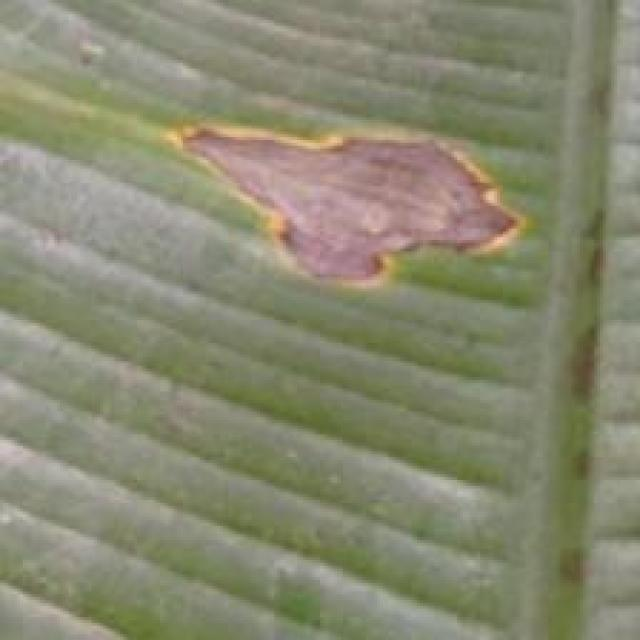Bacterial_spot: (155, 92, 535, 301)
